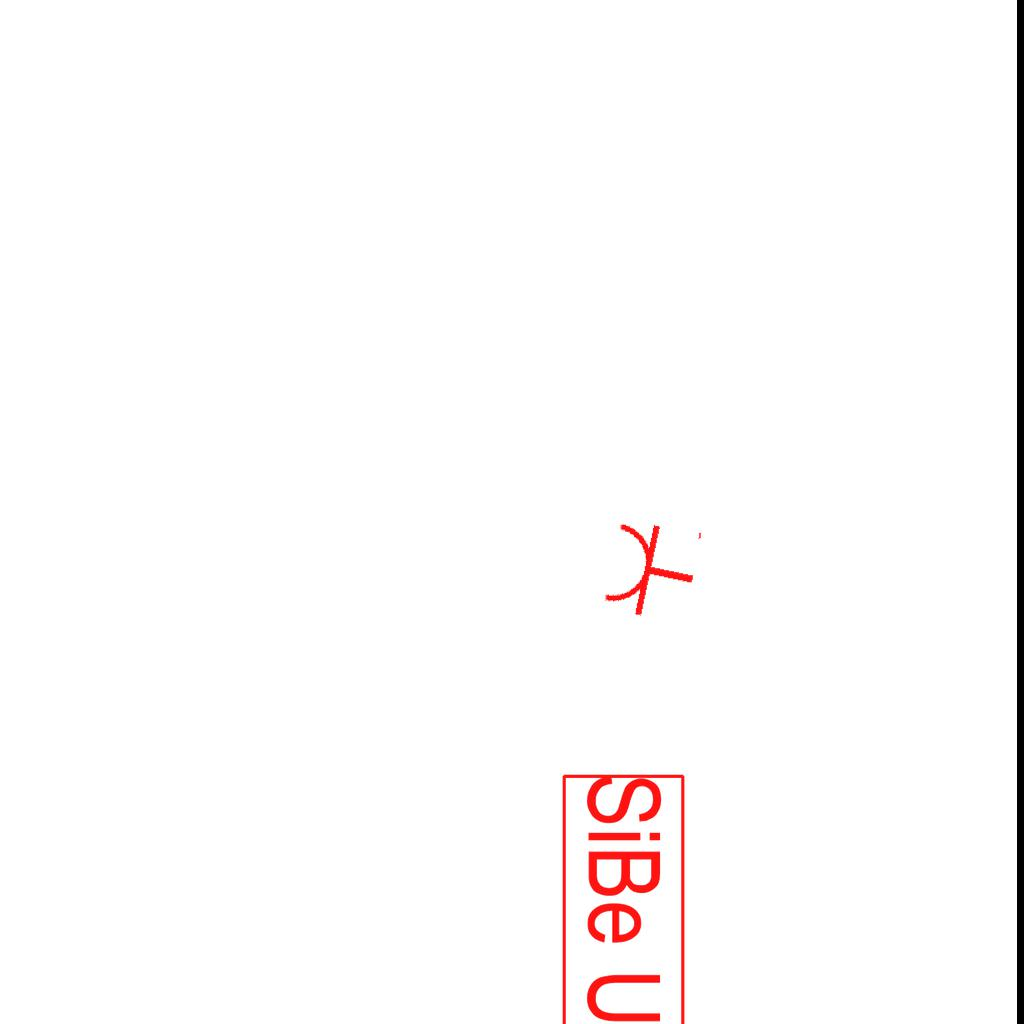Schukosteckdose_einfach: (599, 511, 706, 627)
Zentrale_Sicherheitsbeleuchtung: (558, 771, 688, 1024)
